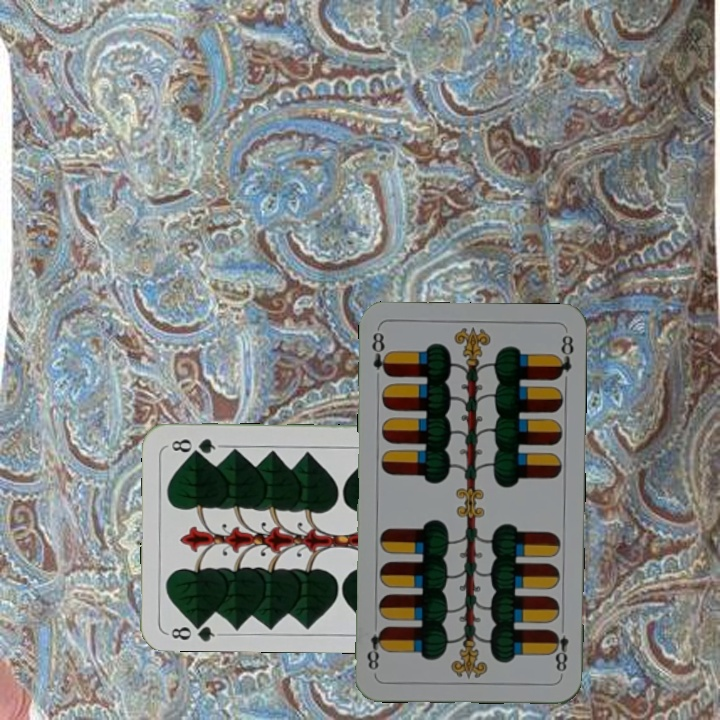E8: (367, 328, 392, 380), (548, 619, 571, 675)
G8: (164, 616, 223, 643)
